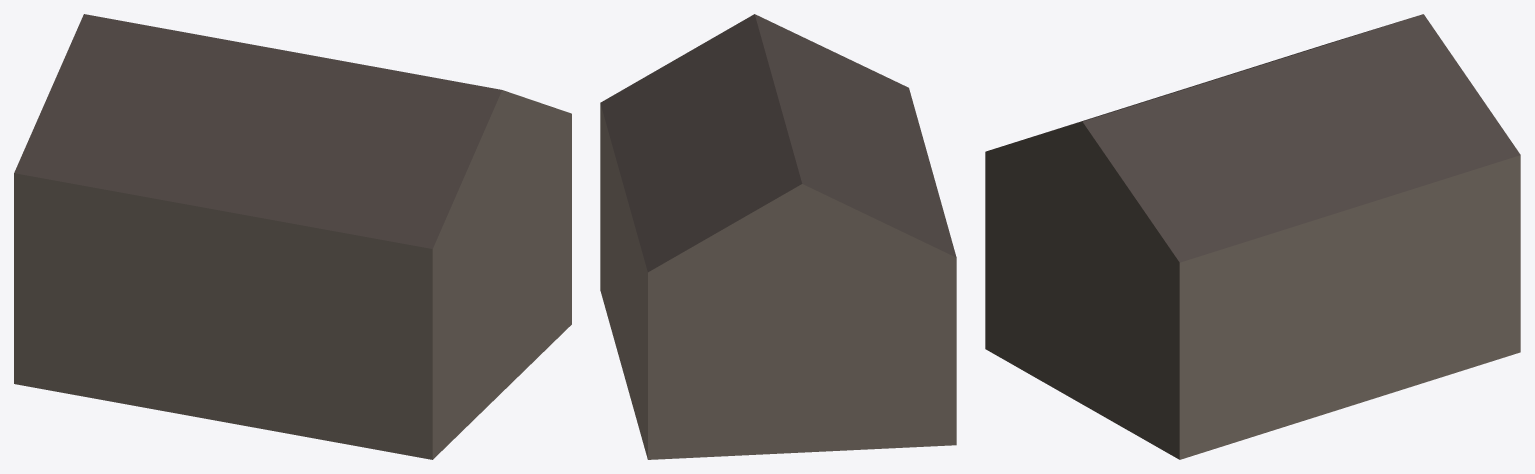
The picture shows the model from 3 angles, left to right: view 1: azimuth 30°, elevation 25°; view 2: azimuth 150°, elevation 25°; view 3: azimuth 270°, elevation 25°; orthographic projection. The views are drawn at different scales.
Parts seen in each view (by area): view 1: HP-w859082518; view 2: HP-w859082518; view 3: HP-w859082518.
Part boxes in pixels (left/top/right/bottom): HP-w859082518: left=14, top=14, right=571, bottom=459; HP-w859082518: left=600, top=14, right=956, bottom=459; HP-w859082518: left=985, top=14, right=1520, bottom=459.
Size of the model in its own units: 14.27 by 8.6 by 14.77.
